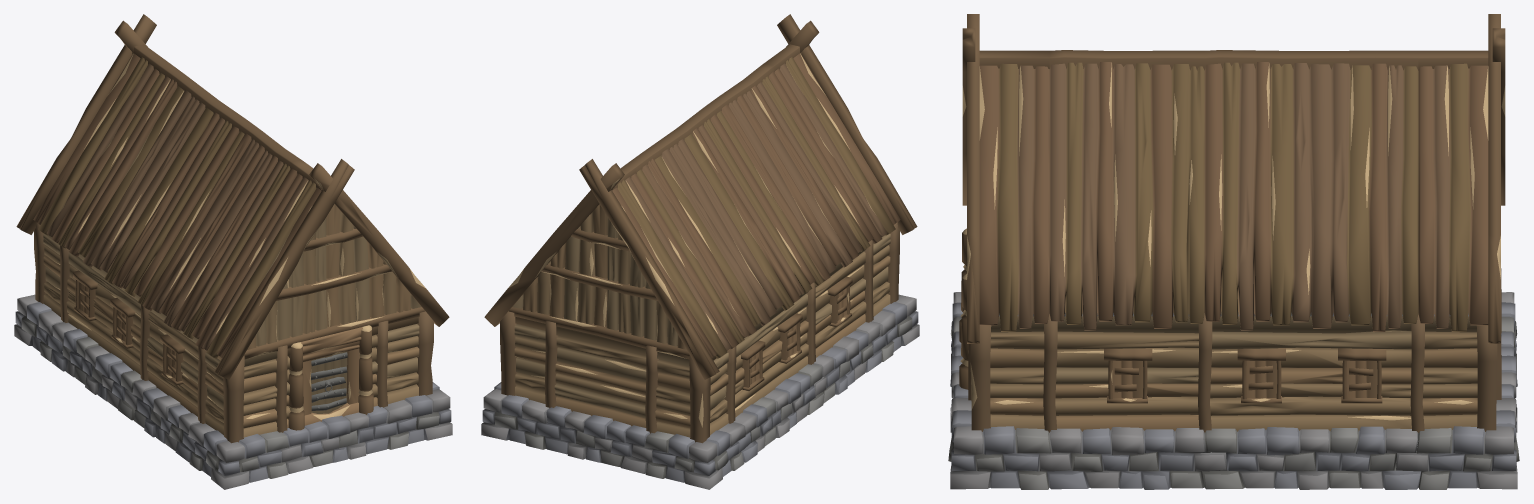
The model's file is House_1.gltf.
3 renders of one model, left to right at view 1: azimuth 30°, elevation 25°; view 2: azimuth 150°, elevation 25°; view 3: azimuth 270°, elevation 25°, orthographic. The views are drawn at different scales.
Parts seen in each view (by area): view 1: House_1; view 2: House_1; view 3: House_1.
Boxes of the visible parts, x1,y1,x2,y2 form: House_1: (14, 14, 452, 489); House_1: (481, 14, 919, 489); House_1: (948, 14, 1519, 489).
Bounding box in the file's own units: 6.72 × 8.14 × 10.69.
1 material, 1 textured.
